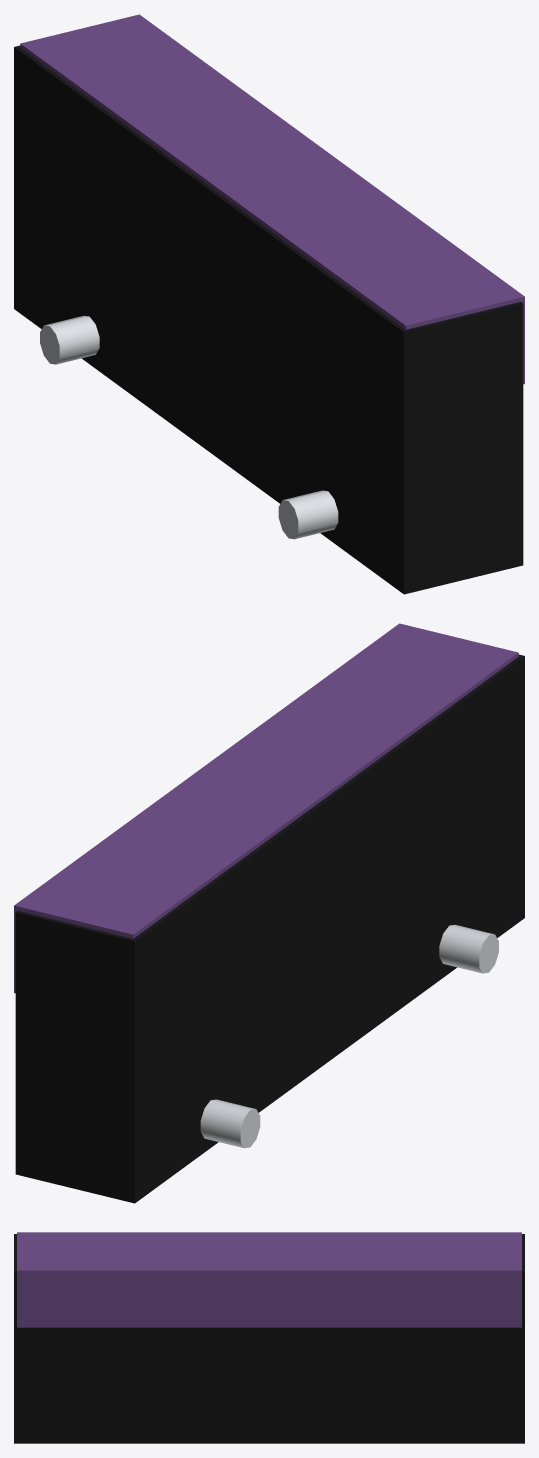
Rendered from rear_bumper.obj.
3 views of the same model, one above another, from view 1: azimuth 30°, elevation 25°; view 2: azimuth 150°, elevation 25°; view 3: azimuth 270°, elevation 25° (orthographic). The views are drawn at different scales.
Parts seen in each view (by area): view 1: Rear_Bumper; view 2: Rear_Bumper; view 3: Rear_Bumper.
Part boxes in pixels (box(x1,y1,x2,y2)): Rear_Bumper: box(14, 14, 524, 594); Rear_Bumper: box(14, 623, 524, 1203); Rear_Bumper: box(14, 1232, 524, 1443).
Size of the model in its own units: 0.41 by 0.64 by 1.7.
